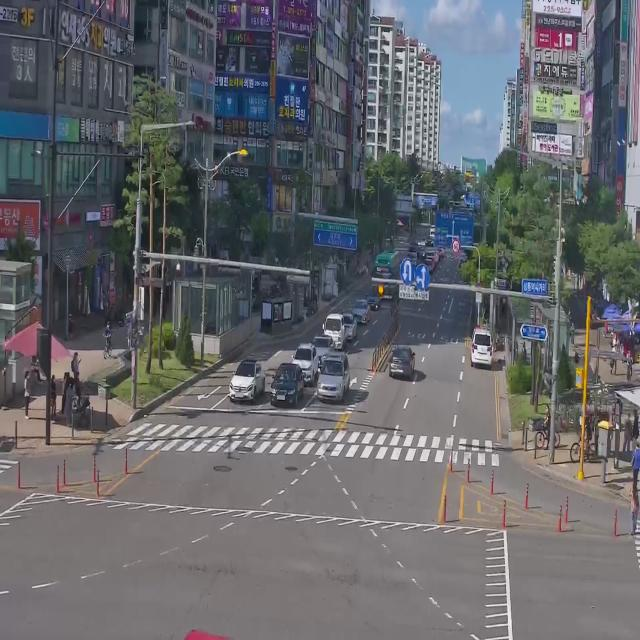Bus: (375, 250, 405, 301)
Car: (318, 352, 350, 402), (228, 358, 264, 402), (270, 362, 304, 407), (290, 338, 319, 382), (470, 327, 493, 368), (389, 344, 415, 379), (309, 330, 333, 363), (343, 312, 359, 338), (366, 290, 384, 312), (354, 299, 367, 328)
Truck: (322, 313, 348, 357)
